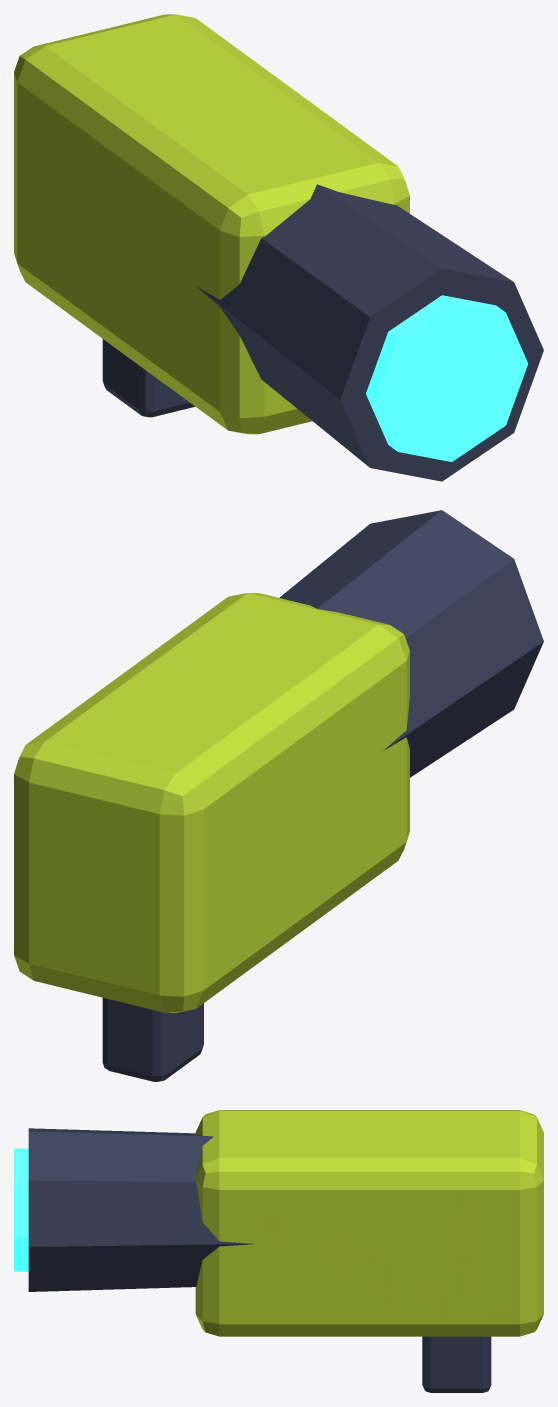
The model's file is SM_Jinx_Launcher.fbx.
The picture shows the model from 3 angles, top to bottom: view 1: azimuth 30°, elevation 25°; view 2: azimuth 150°, elevation 25°; view 3: azimuth 270°, elevation 25°; orthographic projection. The views are drawn at different scales.
Parts seen in each view (by area): view 1: SM_Jinx_Launcher; view 2: SM_Jinx_Launcher; view 3: SM_Jinx_Launcher.
Part boxes in pixels (left/top/right/bottom): SM_Jinx_Launcher: left=14, top=14, right=543, bottom=481; SM_Jinx_Launcher: left=14, top=510, right=543, bottom=1081; SM_Jinx_Launcher: left=14, top=1110, right=543, bottom=1392.
Bounding box in the file's own units: 24 × 73 × 38.5.
